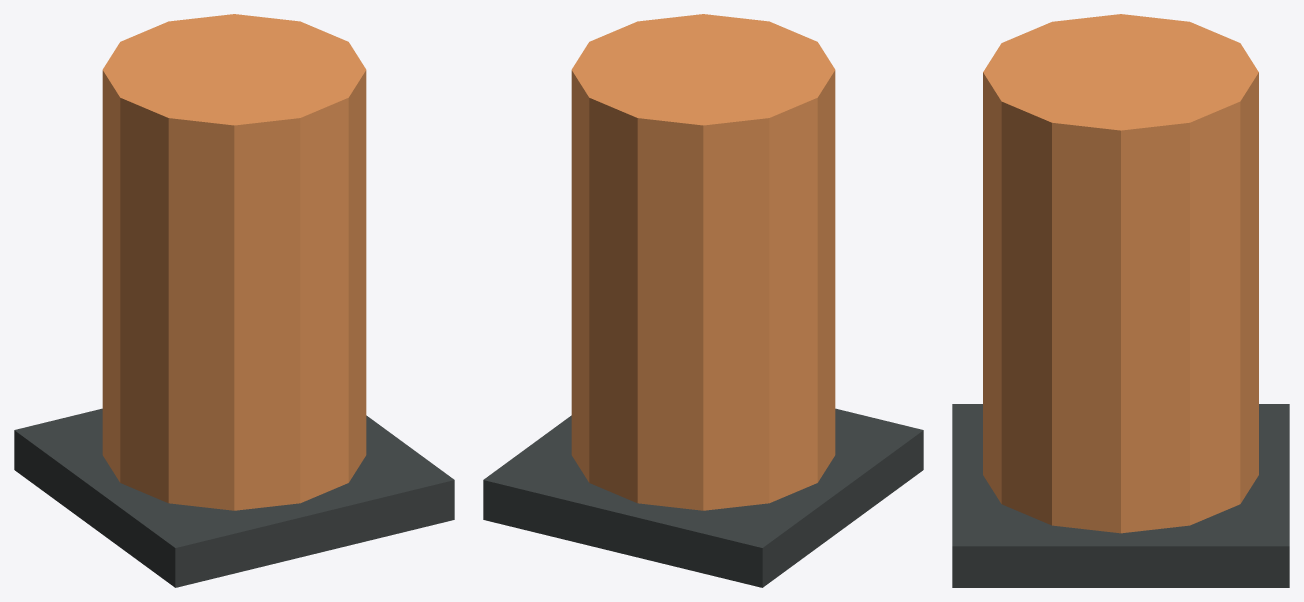
The model's file is PRP_STREET_004_traffic_cone.glb.
The picture shows the model from 3 angles, left to right: view 1: azimuth 30°, elevation 25°; view 2: azimuth 150°, elevation 25°; view 3: azimuth 270°, elevation 25°; orthographic projection. The views are drawn at different scales.
Parts seen in each view (by area): view 1: Part_15, Part_18, Part_12, Part_21, Part_04, Part_01, Part_09, Part_24, Part_02, Part_10, Part_25, Part_07 (+9 smaller); view 2: Part_27, Part_30, Part_24, Part_33, Part_04, Part_00, Part_21, Part_36, Part_02, Part_22, Part_37, Part_19 (+9 smaller); view 3: Part_06, Part_39, Part_09, Part_36, Part_04, Part_03, Part_12, Part_33, Part_16, Part_31, Part_13, Part_34 (+8 smaller).
Part boxes in pixels (<box>): Part_15: <box>234,118,300,510</box>; Part_18: <box>168,118,234,510</box>; Part_12: <box>300,98,348,503</box>; Part_21: <box>120,98,168,503</box>; Part_04: <box>14,408,454,547</box>; Part_01: <box>175,480,454,587</box>; Part_09: <box>348,70,366,482</box>; Part_24: <box>102,70,120,482</box>; Part_02: <box>14,430,175,587</box>; Part_10: <box>235,69,365,97</box>; Part_25: <box>103,69,233,97</box>; Part_07: <box>236,42,365,69</box>; Part_27: <box>703,118,769,510</box>; Part_30: <box>637,118,703,510</box>; Part_24: <box>769,98,817,503</box>; Part_33: <box>589,98,637,503</box>; Part_04: <box>483,408,923,547</box>; Part_00: <box>483,480,762,587</box>; Part_21: <box>817,70,835,482</box>; Part_36: <box>571,70,589,482</box>; Part_02: <box>762,430,923,587</box>; Part_22: <box>704,69,834,97</box>; Part_37: <box>572,69,702,97</box>; Part_19: <box>705,42,834,69</box>; Part_06: <box>1052,122,1120,533</box>; Part_39: <box>1121,122,1189,533</box>; Part_09: <box>1001,102,1051,525</box>; Part_36: <box>1190,102,1240,525</box>; Part_04: <box>952,404,1289,546</box>; Part_03: <box>952,546,1289,587</box>; Part_12: <box>983,72,1001,503</box>; Part_33: <box>1240,72,1258,503</box>; Part_16: <box>983,43,1119,72</box>; Part_31: <box>1122,43,1258,72</box>; Part_13: <box>983,72,1119,101</box>; Part_34: <box>1122,72,1258,101</box>.
Size of the model in its own units: 0.44 by 0.64 by 0.44.
